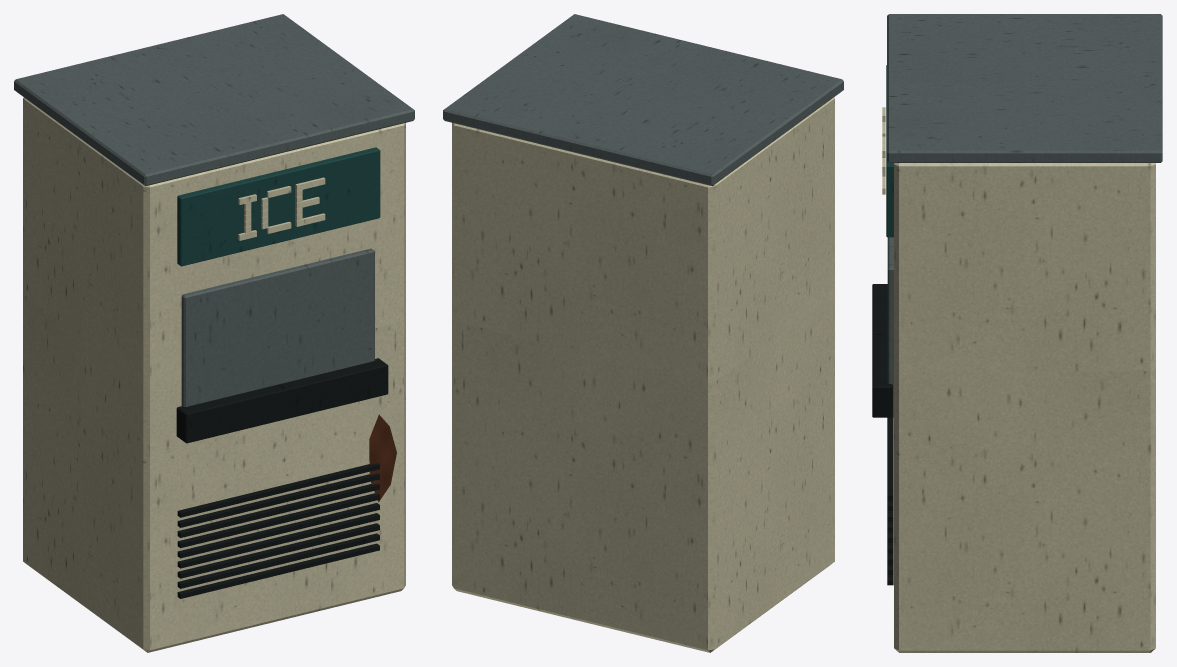
The model's file is ice_machine.glb.
3 views of the same model, side by side, from view 1: azimuth 30°, elevation 25°; view 2: azimuth 150°, elevation 25°; view 3: azimuth 270°, elevation 25° (orthographic). The views are drawn at different scales.
Visible parts, largest first — view 1: ice_machine; view 2: ice_machine; view 3: ice_machine.
Boxes of the visible parts, box(x1,y1,x2,y2) form: ice_machine: box(14, 14, 414, 652); ice_machine: box(443, 14, 843, 652); ice_machine: box(872, 14, 1162, 652).
Size of the model in its own units: 0.95 by 1.62 by 0.843.
5 materials, 5 textured.
